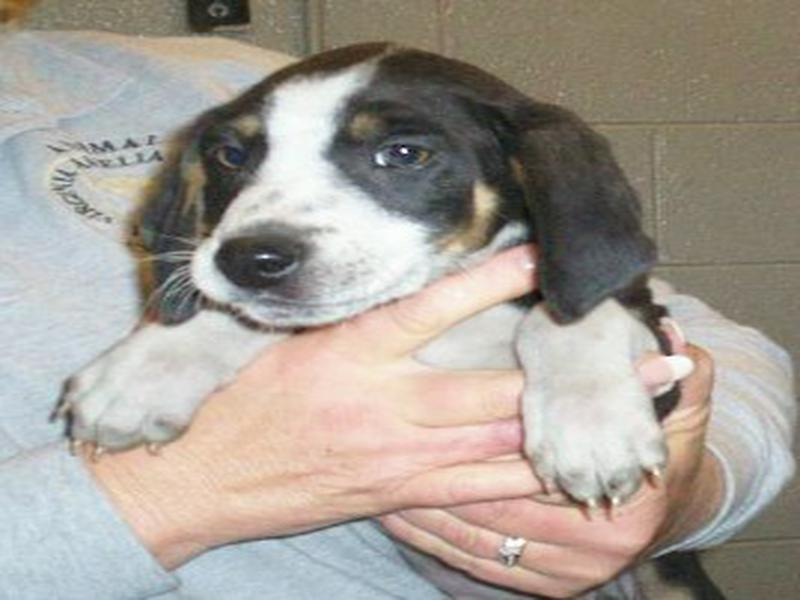dog: (52, 33, 686, 539)
